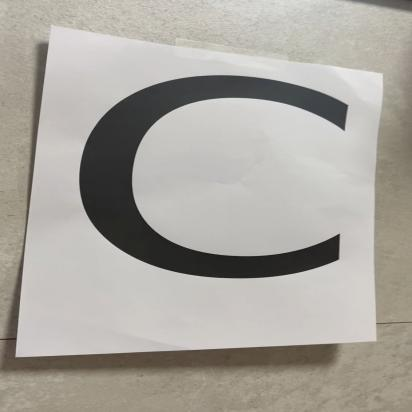seat: (56, 25, 374, 350)
